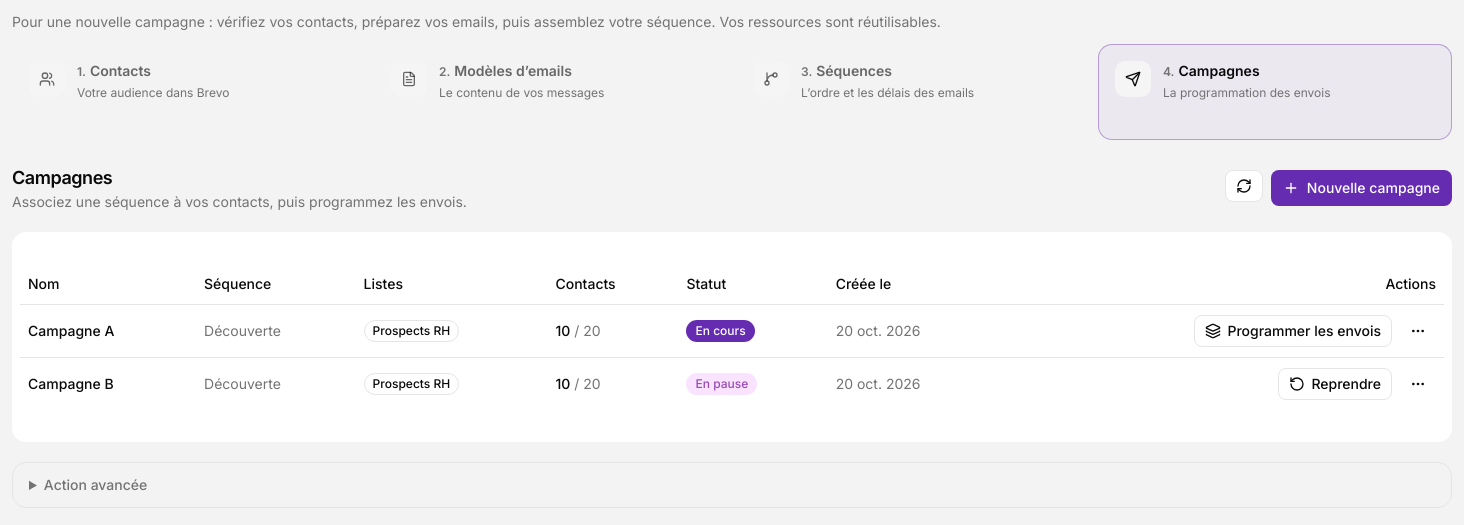
Test: keeps the preparation resources on one page and records the selected section
Expected: the text "Campagne A" is shown, [20, 304, 196, 357]
Press Enter in the tab "2.Modèles d’emails Le contenu de vos messages", box [374, 44, 728, 140]
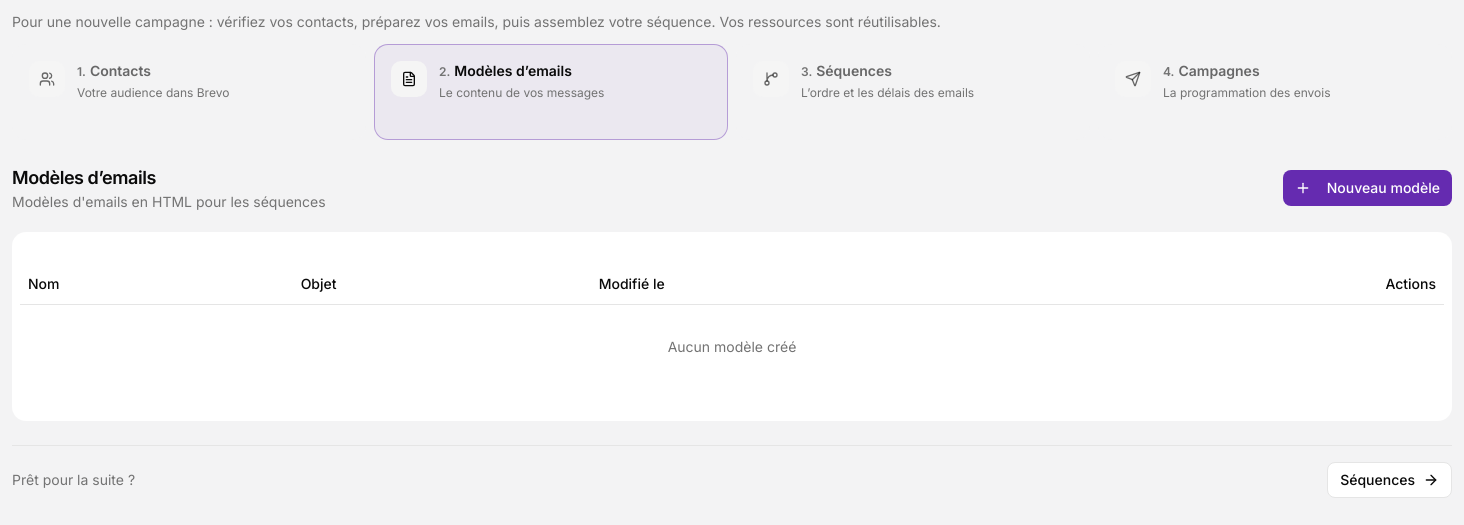
Now the text "Aucun modèle créé" is shown, box [20, 304, 1444, 388]
Click the button "Séquences" at (1390, 480), box [1327, 462, 1452, 498]
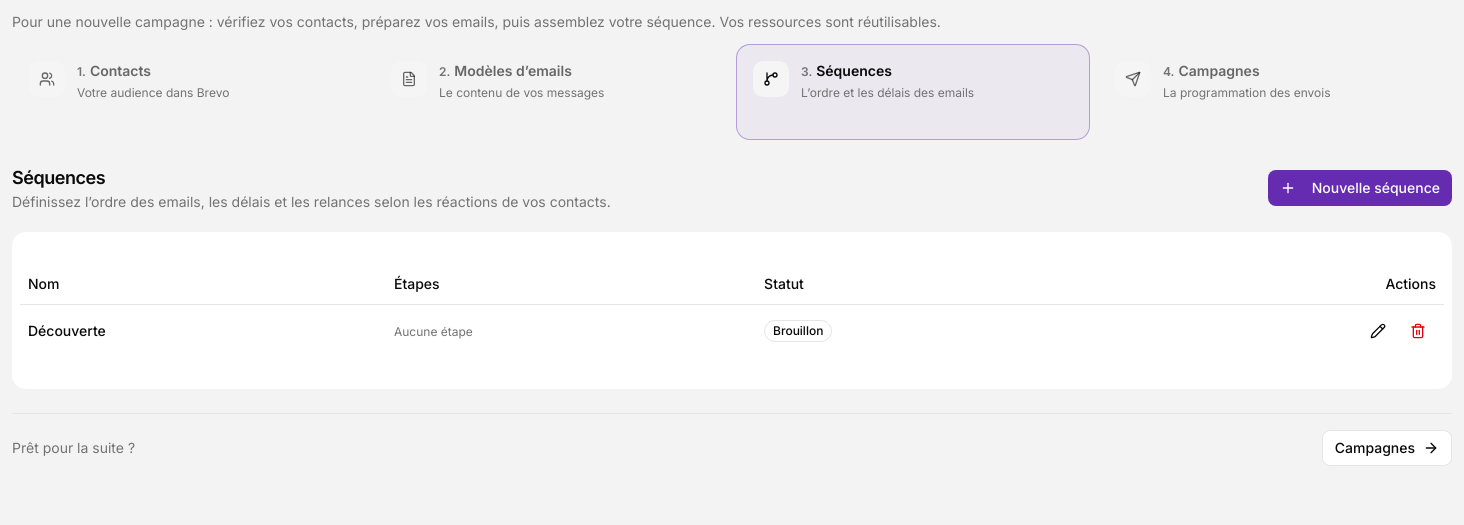
Now the text "Découverte" is shown, box [20, 304, 386, 356]
